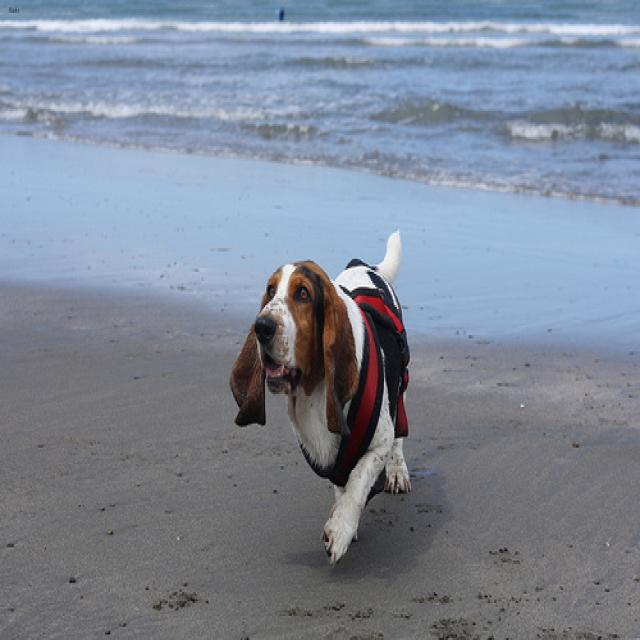dog-basset_hound: (215, 220, 419, 568)
